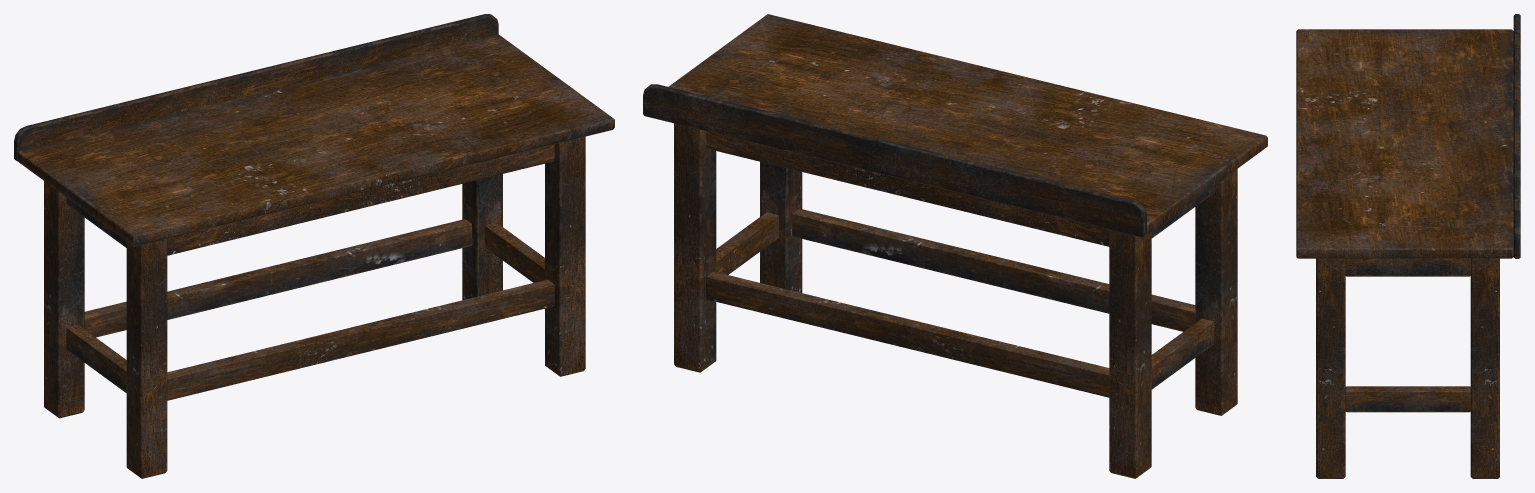
Rendered from bench.glb.
3 views of the same model, side by side, from view 1: azimuth 30°, elevation 25°; view 2: azimuth 150°, elevation 25°; view 3: azimuth 270°, elevation 25° (orthographic). The views are drawn at different scales.
Parts seen in each view (by area): view 1: worktable_01a; view 2: worktable_01a; view 3: worktable_01a.
Boxes of the visible parts, x1,y1,x2,y2 form: worktable_01a: (14, 14, 614, 478); worktable_01a: (643, 14, 1267, 478); worktable_01a: (1296, 14, 1520, 478).
Size of the model in its own units: 1.79 by 0.98 by 0.7721.
Materials: 1 (1 with a texture image).
